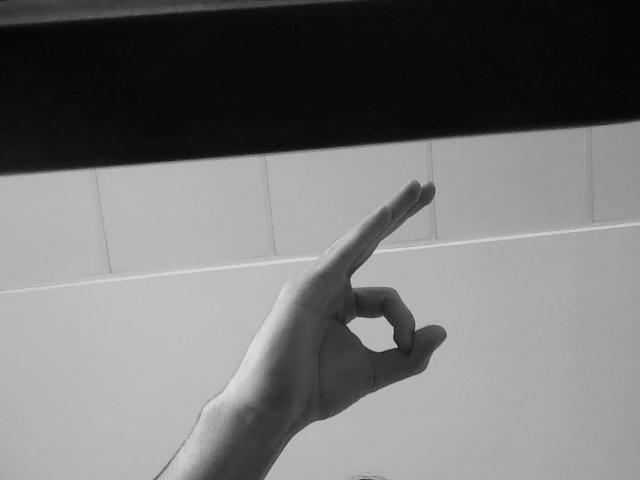OK: (258, 171, 492, 416)
